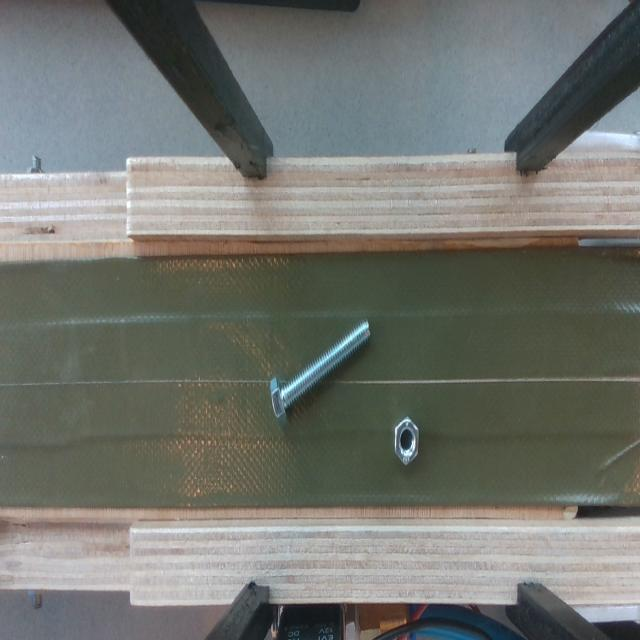Bolt: (270, 321, 370, 423)
Nut: (394, 416, 419, 464)
